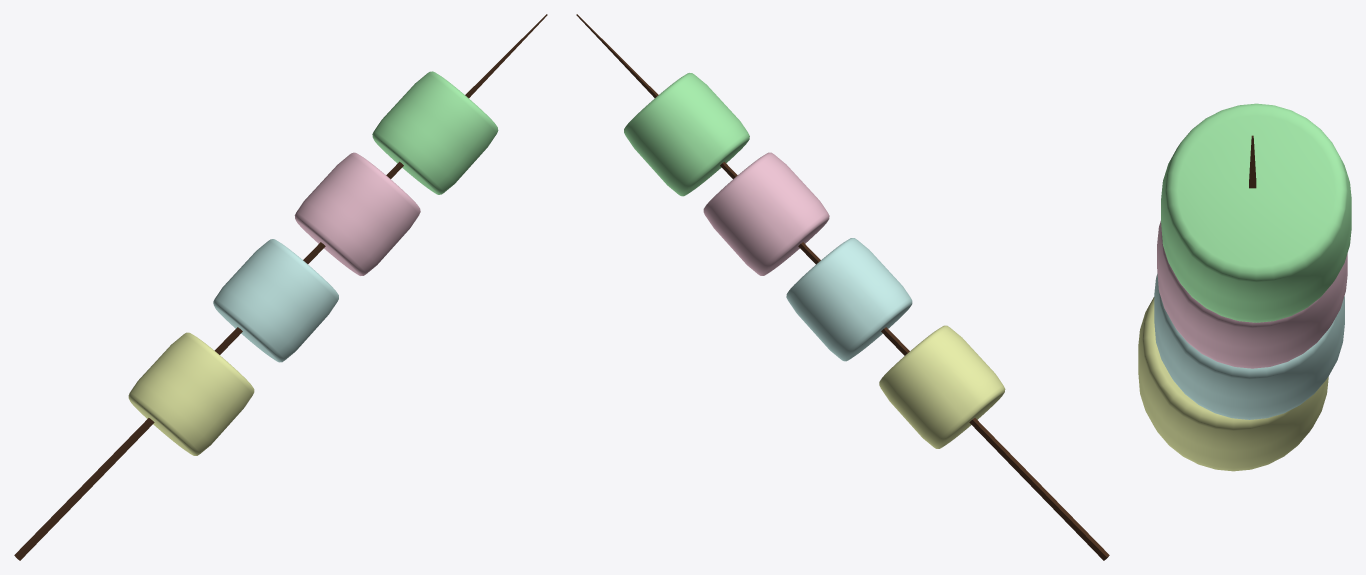
The model's file is marshmallow.glb.
3 views of the same model, side by side, from view 1: azimuth 30°, elevation 25°; view 2: azimuth 150°, elevation 25°; view 3: azimuth 270°, elevation 25° (orthographic). The views are drawn at different scales.
Visible parts, largest first — view 1: Cylinder.003_5, Cylinder.001_2, Cylinder.004_6, Cylinder.002_4, Cube_3; view 2: Cylinder.001_2, Cylinder.002_4, Cylinder.004_6, Cylinder.003_5, Cube_3; view 3: Cylinder.004_6, Cylinder.003_5, Cylinder.002_4, Cylinder.001_2, Cube_3.
Part boxes in pixels (<box>): Cylinder.003_5: <box>128,332,254,455</box>; Cylinder.001_2: <box>294,152,420,275</box>; Cylinder.004_6: <box>372,71,498,194</box>; Cylinder.002_4: <box>213,239,338,362</box>; Cube_3: <box>14,14,547,560</box>; Cylinder.001_2: <box>703,152,829,275</box>; Cylinder.002_4: <box>786,238,912,361</box>; Cylinder.004_6: <box>624,73,749,196</box>; Cylinder.003_5: <box>879,325,1005,448</box>; Cube_3: <box>576,14,1109,560</box>; Cylinder.004_6: <box>1161,103,1351,322</box>; Cylinder.003_5: <box>1138,297,1328,471</box>; Cylinder.002_4: <box>1154,273,1344,419</box>; Cylinder.001_2: <box>1157,221,1347,368</box>; Cube_3: <box>1249,135,1256,188</box>.
Size of the model in its own units: 8.07 by 6.04 by 1.4.
